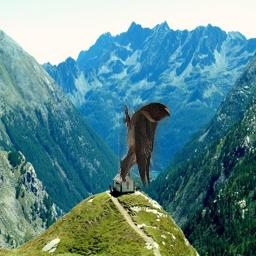Swallow: (118, 102, 170, 188)
